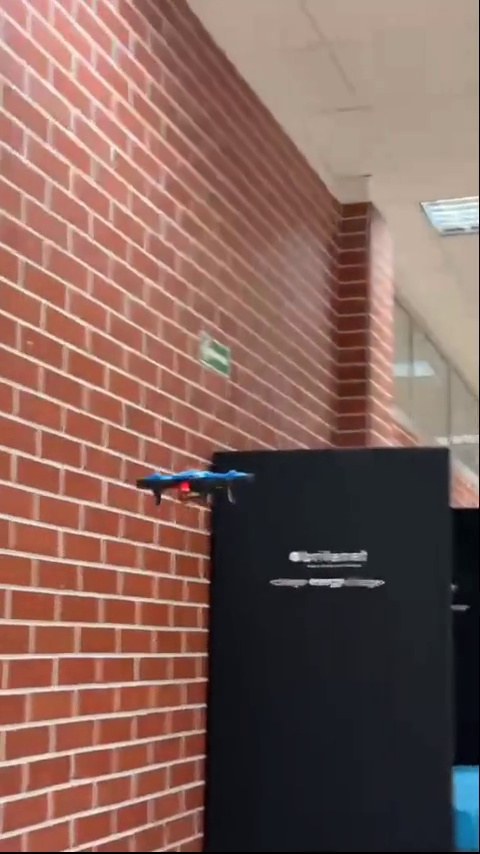drone: (136, 468, 249, 507)
